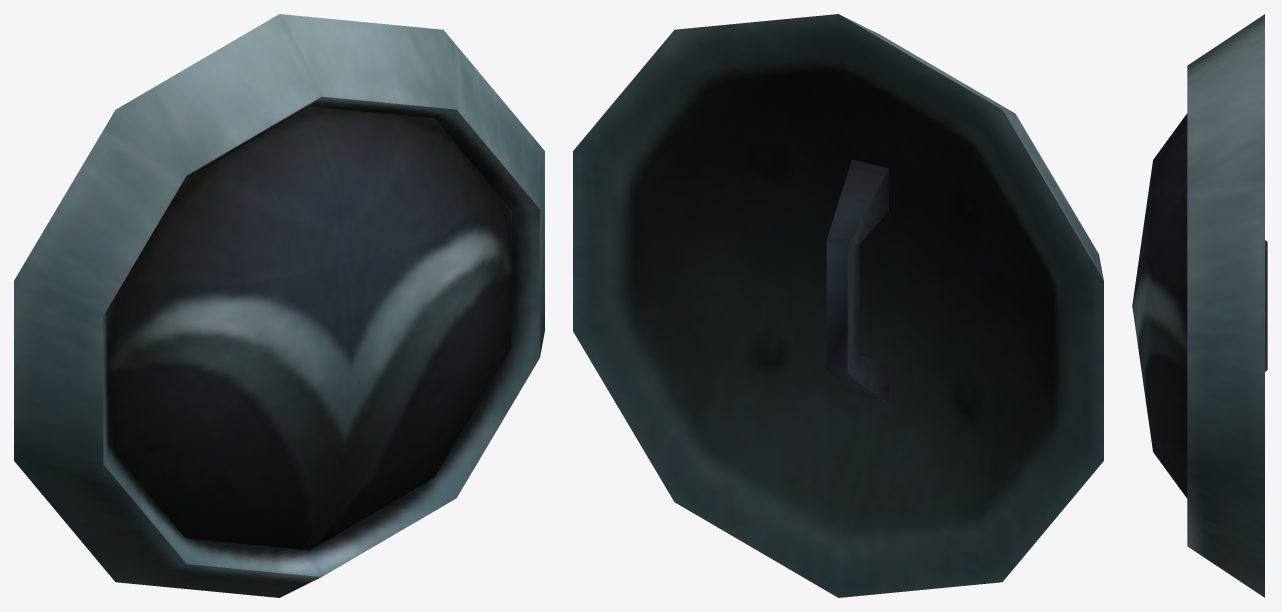
File: standardShieldR.glb
3 renders of one model, left to right at view 1: azimuth 30°, elevation 25°; view 2: azimuth 150°, elevation 25°; view 3: azimuth 270°, elevation 25°, orthographic. The views are drawn at different scales.
Visible parts, largest first — view 1: standardShieldR; view 2: standardShieldR; view 3: standardShieldR.
Boxes of the visible parts, x1=… form: standardShieldR: x1=14, y1=14, x2=544, y2=597; standardShieldR: x1=573, y1=14, x2=1103, y2=597; standardShieldR: x1=1132, y1=14, x2=1267, y2=597.
Size of the model in its own units: 1.12 by 1.18 by 0.2677.
Materials: 1 (1 with a texture image).
